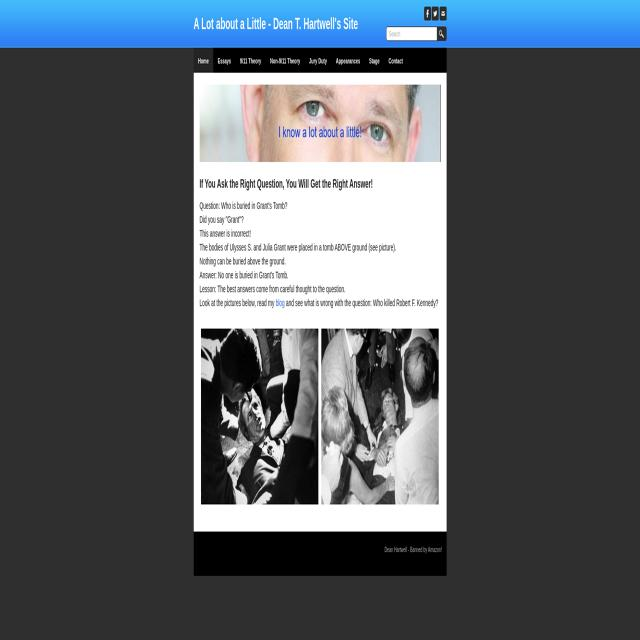button: (200, 328, 319, 504), (322, 328, 438, 506), (266, 48, 304, 72), (332, 48, 364, 72), (236, 48, 266, 72), (304, 48, 332, 72), (384, 48, 408, 72), (213, 48, 235, 72), (193, 48, 213, 72), (365, 48, 384, 72), (437, 26, 447, 42), (424, 7, 431, 20), (439, 7, 446, 20), (432, 7, 438, 20)
field: (386, 27, 436, 40)
